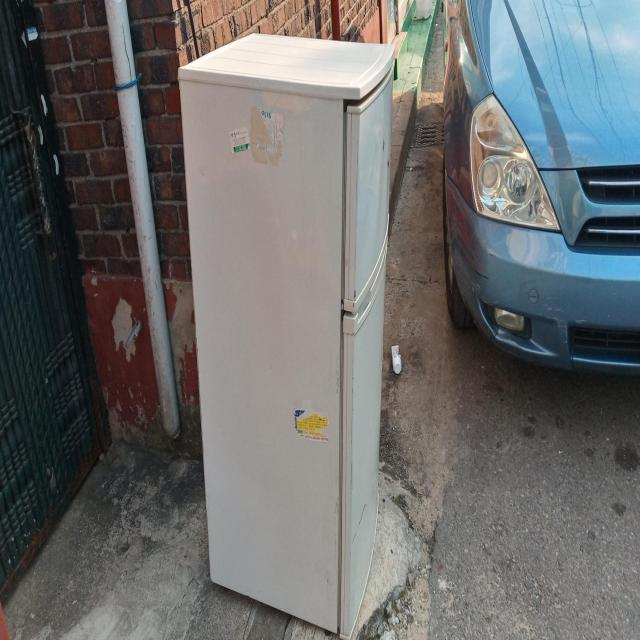refrigerator: (174, 26, 399, 640)
